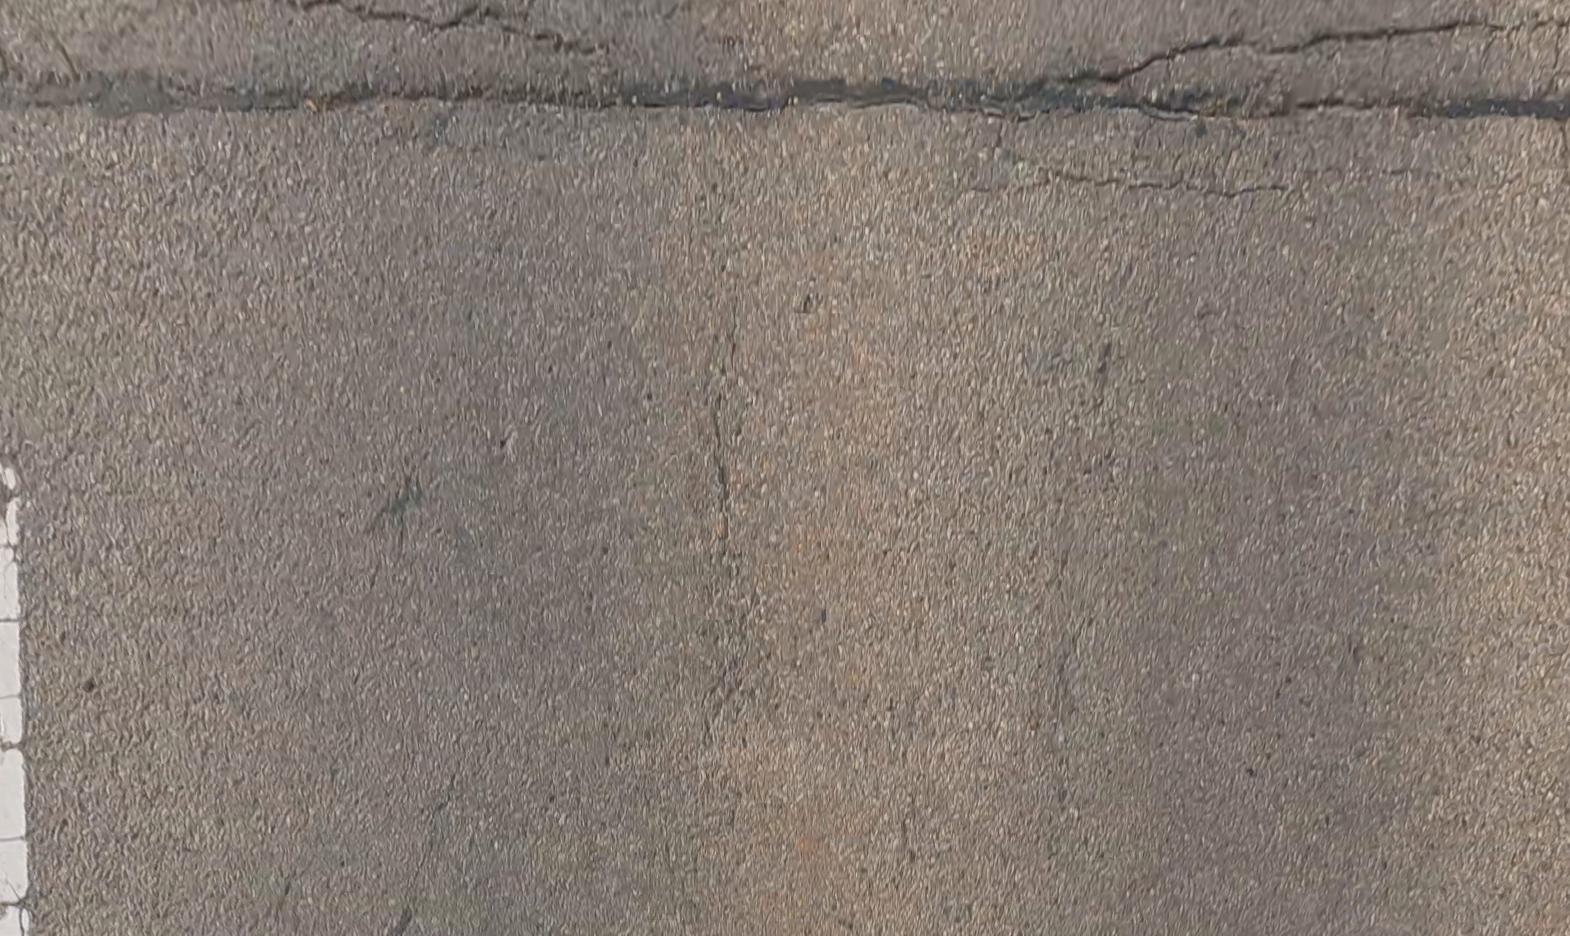pothole: (1026, 69, 1122, 99)
